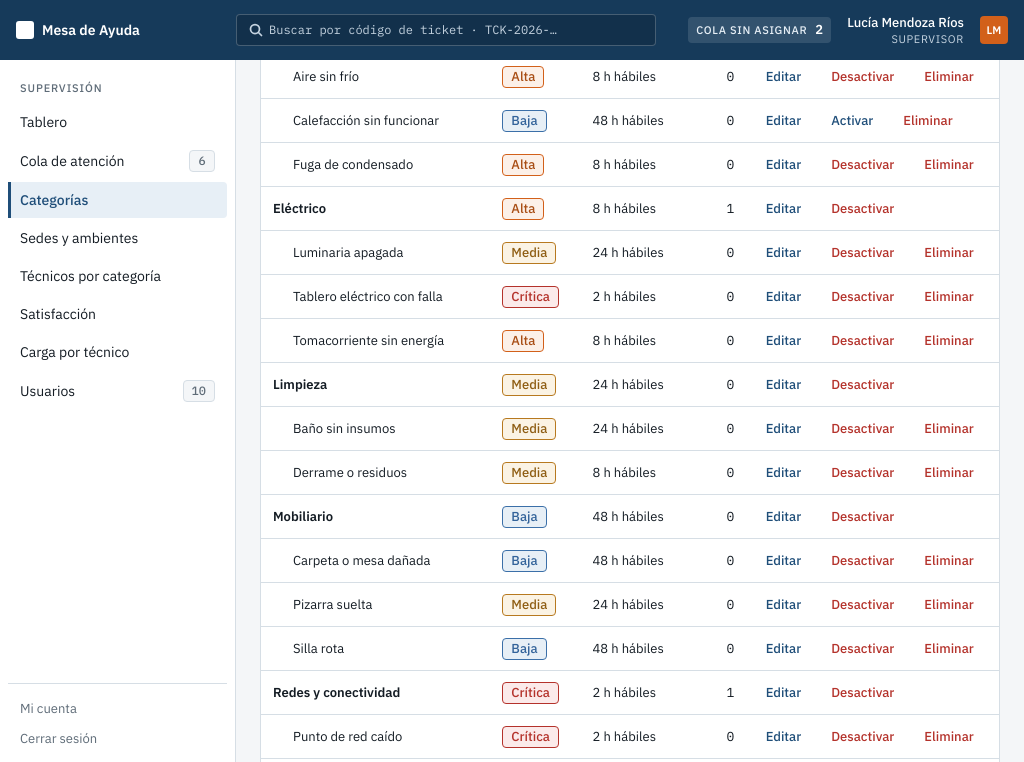
Test: CategoriasPage · estado › desactiva una categoría sin tickets en curso y lo notifica
The width and height of the screenshot is (1024, 762).
(page scrolled)
Expected: the text "Cola sin asignar" is shown, [696,22,807,38]
Click the button named "Desactivar Limpieza".
click(863, 384)  # box [818,368,908,400]
(page scrolled)
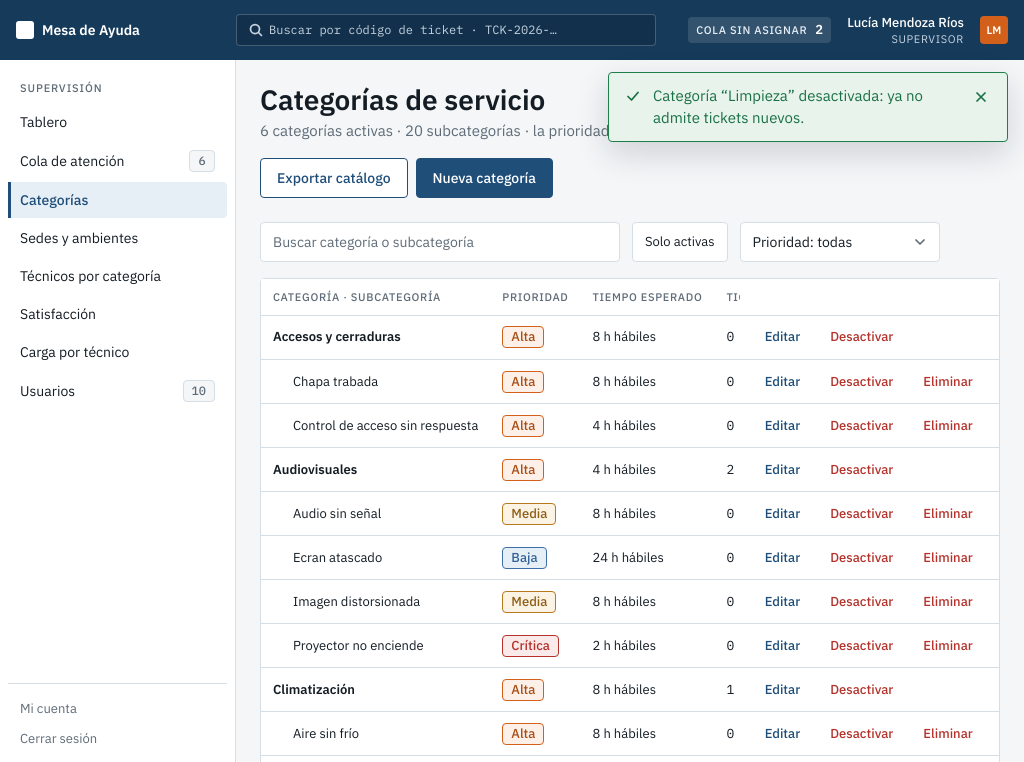
Now the text "Categoría “Limpieza” desactivada: ya no admite tickets nuevos." is shown, box [653,85,955,129]
Now the text "6 categorías activas · 20 subcategorías · la prioridad por defecto se aplica a cada ticket nuevo." is shown, box [260,121,890,140]
